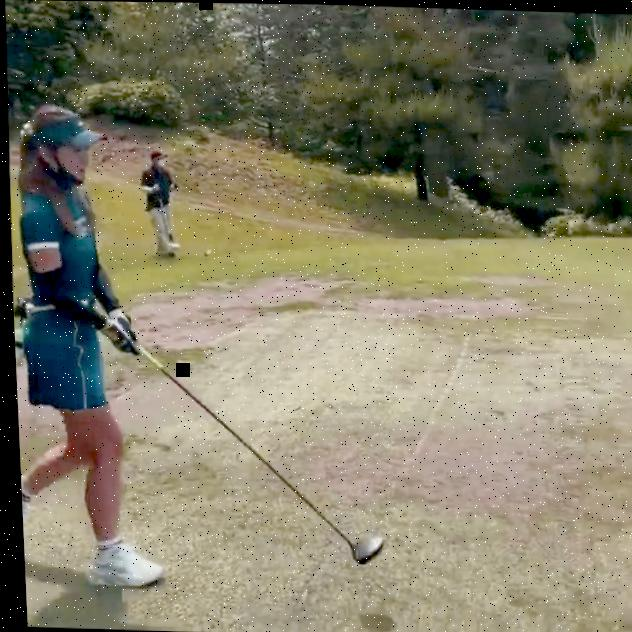ClubHead: (347, 535, 380, 565)
